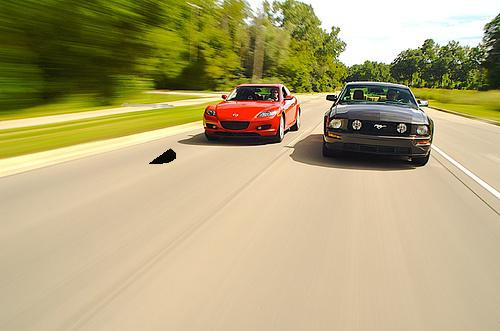tampered: (122, 104, 176, 164)
